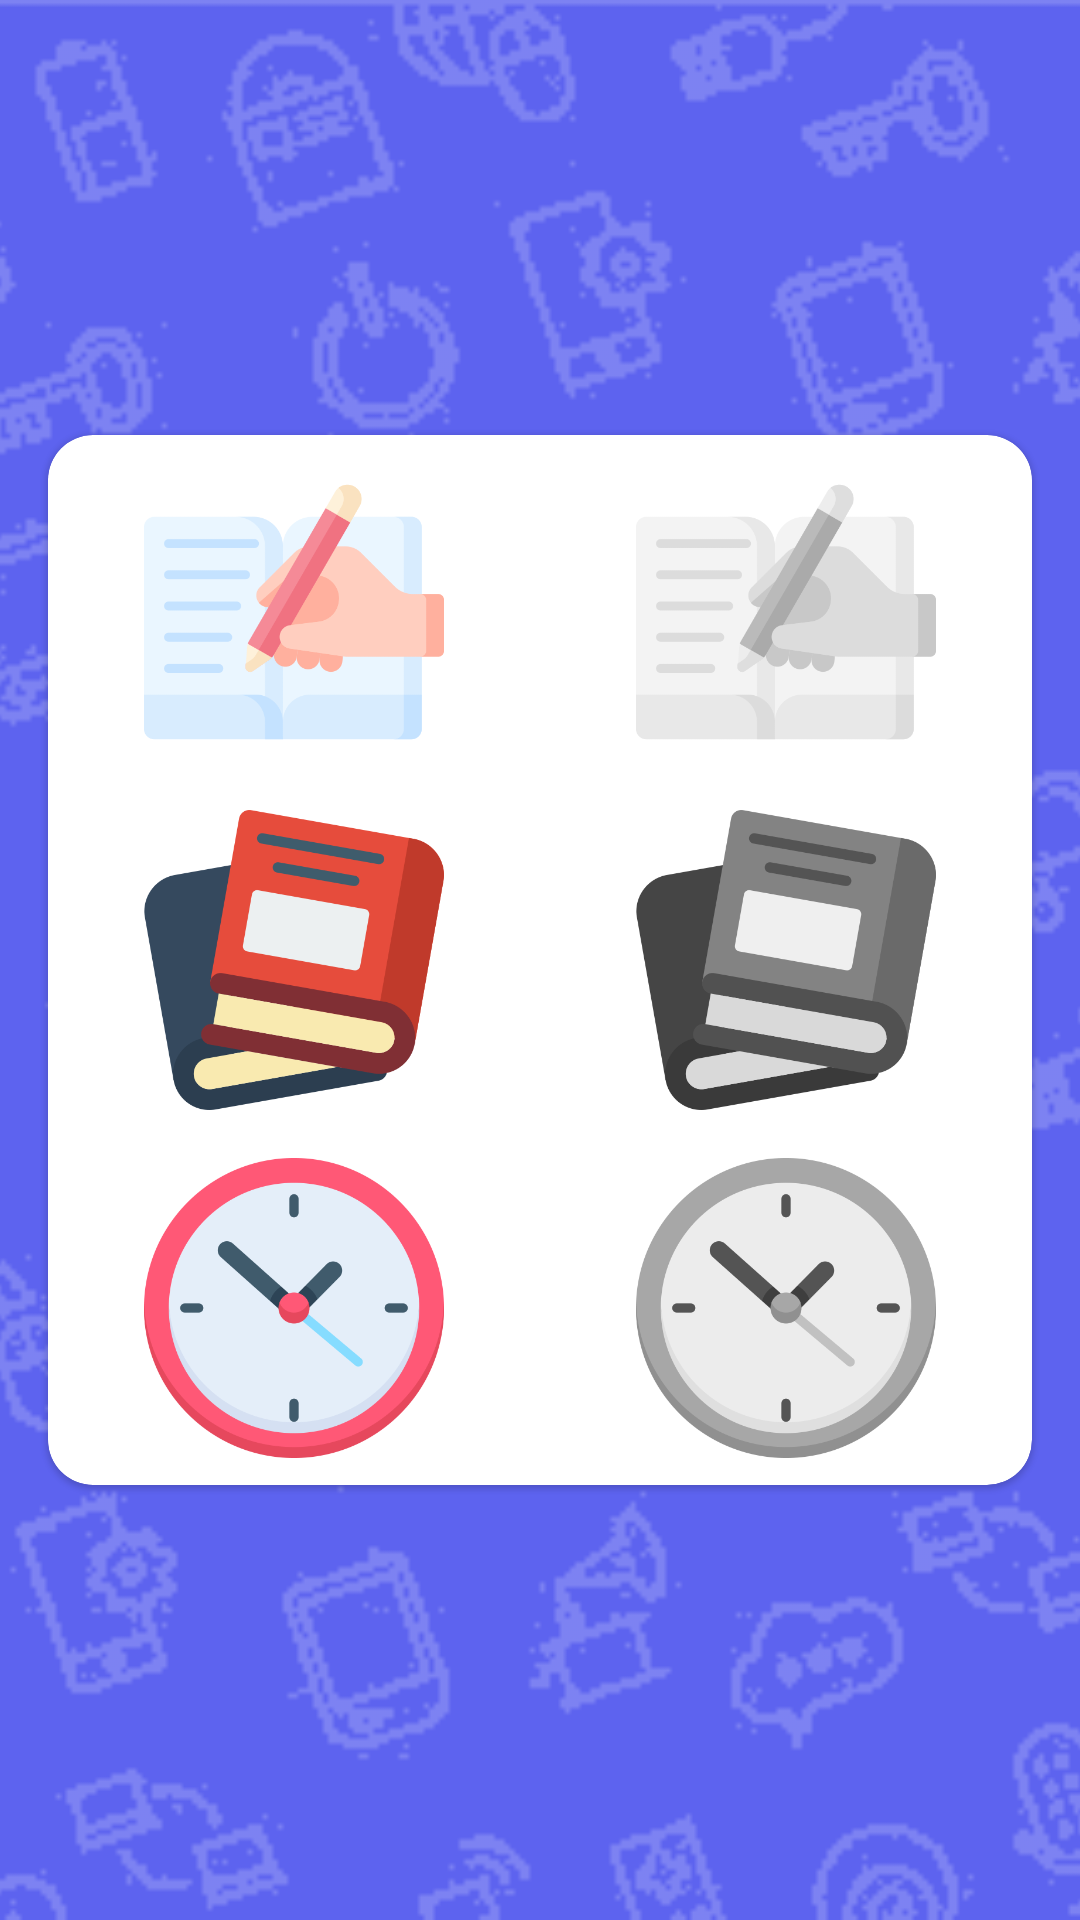

Named icons in this screenshot (1080px x 1920px) and their bounding boxes, bbox=[x1, y1, x2, y2]:
buku: bbox=[144, 810, 444, 1110]
buku bw: bbox=[636, 810, 936, 1110]
jam: bbox=[144, 1158, 444, 1458]
jam bw: bbox=[636, 1158, 936, 1458]
menulis: bbox=[144, 485, 444, 739]
menulis bw: bbox=[636, 485, 936, 740]
